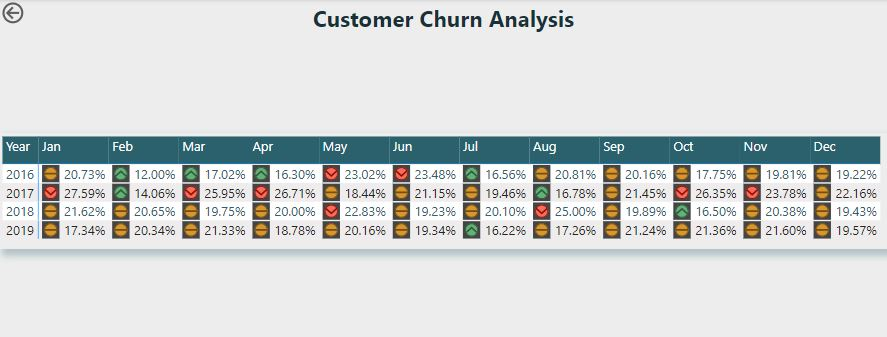

This screenshot's page, from the dashboard's own definition file:
{"tool":"powerbi","page":{"name":"Page 2","canvas":[1280,720],"ordinal":1},"visuals":[{"type":"textbox","box":[0,0,1280,57.1],"z":0},{"type":"actionButton","box":[0,0,100,40],"z":13000},{"type":"pivotTable","fields":{"Rows":["Date Master.Year"],"Columns":["Calendar.Month Name"],"Values":["Dax Measures.Churn %"]},"box":[0,193,1280.2,167],"z":13001}]}

Visuals, with their boxes on the page's 1280x720 design canvas (x1, y1, x2, y2). These are canvas units, not pixel positions in the 887x337 screenshot, which may show the page scaled, cropped or inside an application window:
textbox: (left=0, top=0, right=1280, bottom=57)
actionButton: (left=0, top=0, right=100, bottom=40)
pivotTable - Date Master.Year x Calendar.Month Name: (left=0, top=193, right=1280, bottom=360)
